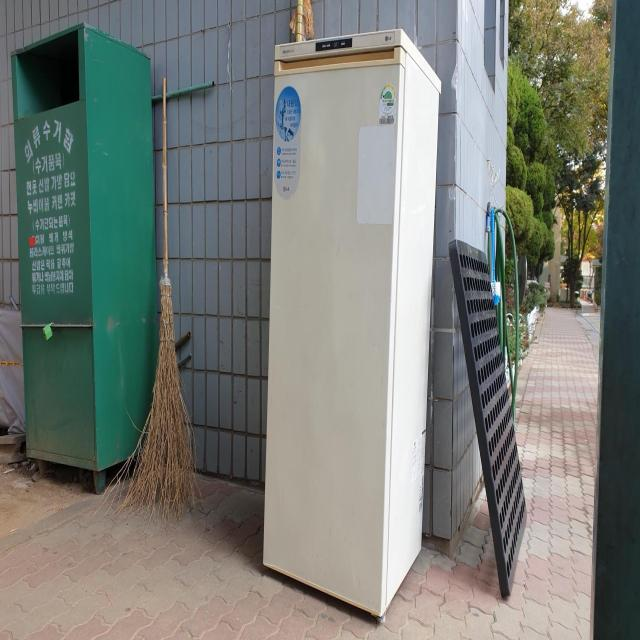refrigerator: (264, 29, 443, 624)
